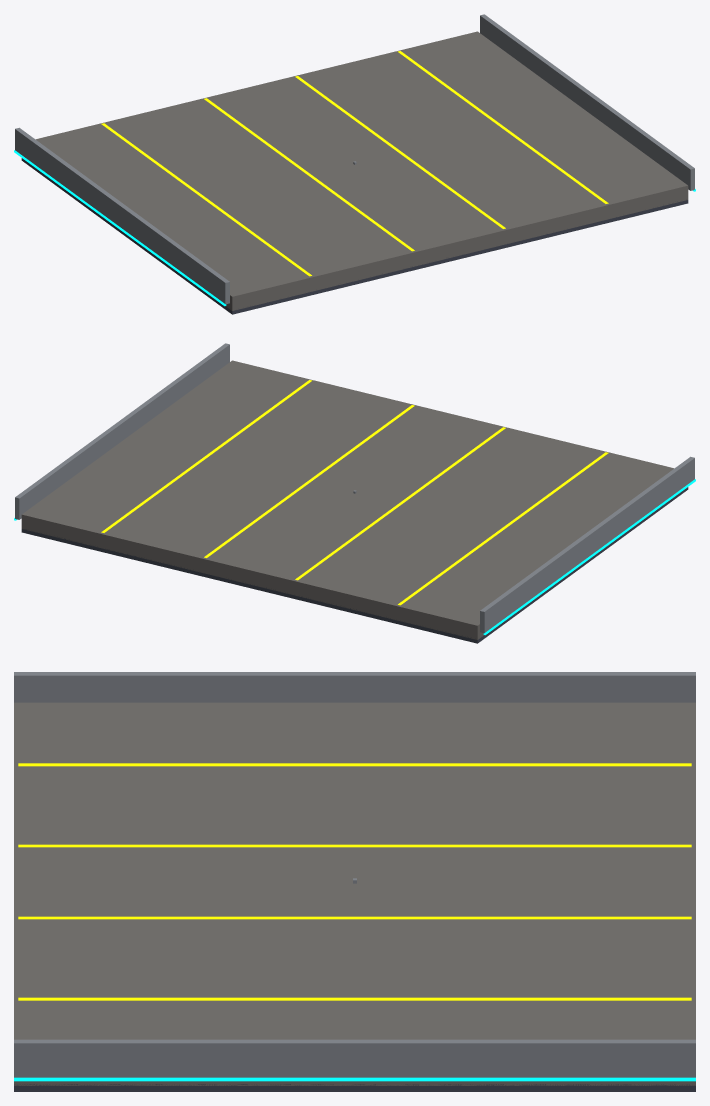
File: ELEV_Highway_Straight.glb
3 renders of one model, top to bottom at view 1: azimuth 30°, elevation 25°; view 2: azimuth 150°, elevation 25°; view 3: azimuth 270°, elevation 25°, orthographic. The views are drawn at different scales.
Visible parts, largest first — view 1: ELEV_Highway_Straight; view 2: ELEV_Highway_Straight; view 3: ELEV_Highway_Straight.
Part boxes in pixels (x1,y1,x2,y2): ELEV_Highway_Straight: [14, 14, 695, 314]; ELEV_Highway_Straight: [14, 343, 695, 643]; ELEV_Highway_Straight: [14, 672, 695, 1091].
Size of the model in its own units: 20.68 by 1.4 by 16.
